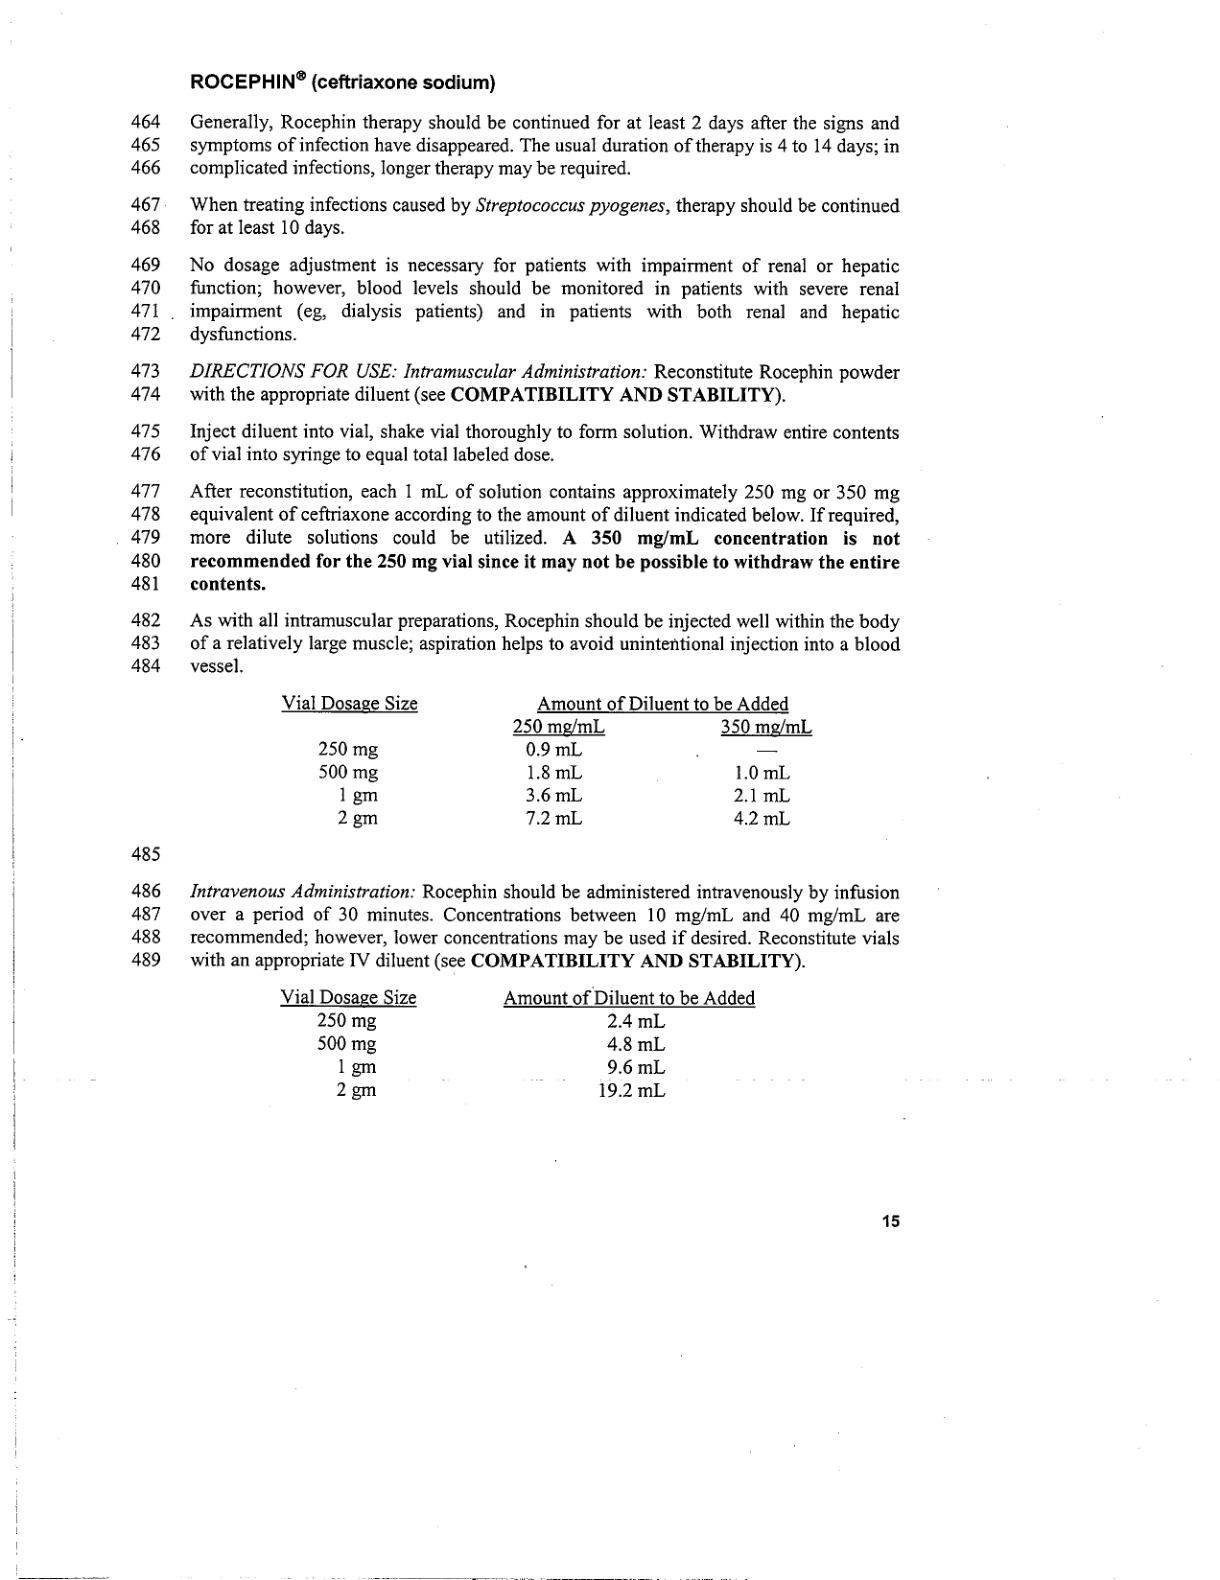nolines: (277, 689, 816, 829), (276, 984, 757, 1098)
